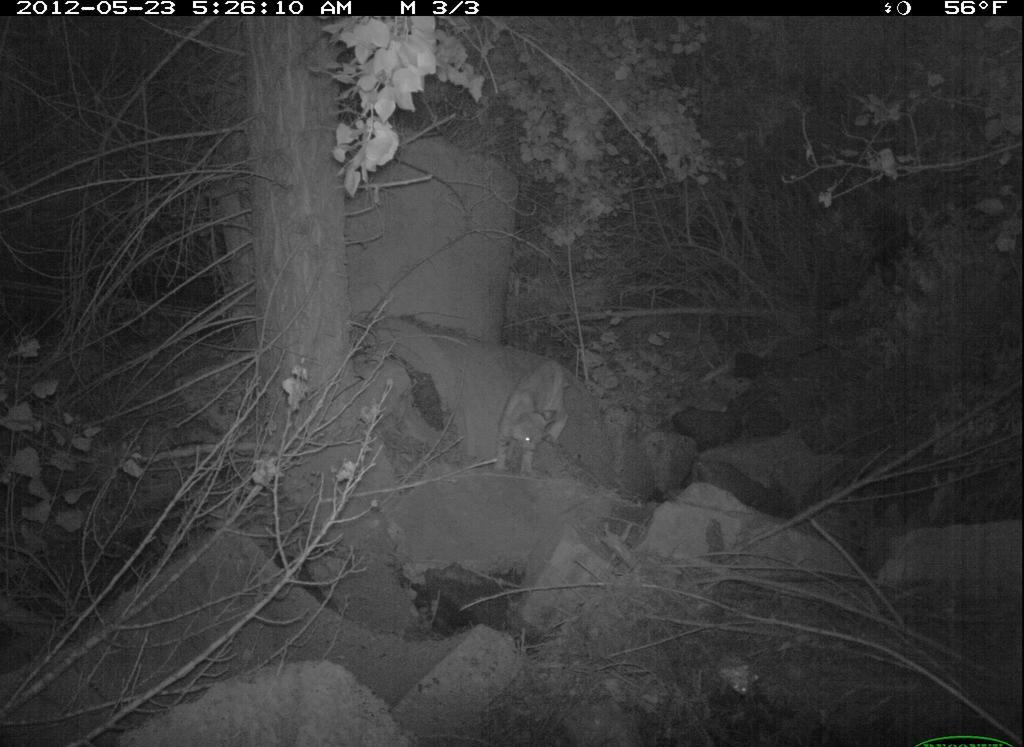bobcat: (486, 354, 591, 489)
